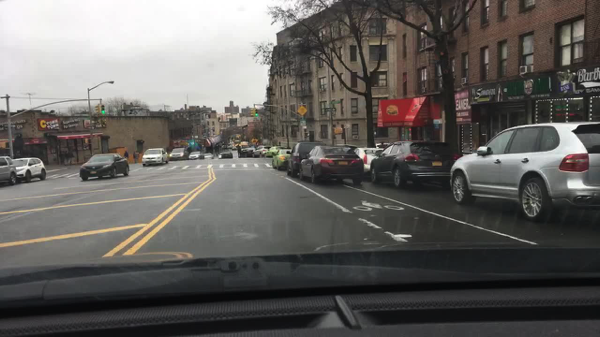car: (447, 120, 598, 223), (368, 139, 462, 189), (299, 145, 364, 185), (285, 140, 326, 178), (79, 152, 130, 182), (11, 157, 47, 184), (353, 147, 383, 175), (0, 155, 18, 185), (141, 148, 168, 167), (270, 148, 292, 169), (167, 148, 188, 161), (251, 145, 270, 159), (265, 146, 285, 158), (188, 150, 204, 162), (336, 144, 358, 151), (242, 147, 255, 158), (374, 142, 391, 150), (221, 152, 233, 160), (203, 153, 214, 159), (218, 152, 222, 160)
person: (67, 149, 76, 164), (58, 150, 65, 165), (63, 150, 69, 164), (133, 150, 139, 163), (123, 149, 129, 162), (236, 145, 242, 158), (14, 150, 21, 160), (378, 141, 385, 148)
traffic light: (94, 104, 100, 117), (333, 128, 343, 135), (101, 104, 106, 116), (249, 108, 254, 118), (303, 131, 310, 138), (5, 141, 11, 149), (254, 108, 258, 118)
traffic sign: (296, 105, 308, 115), (329, 100, 343, 105), (299, 118, 306, 127), (251, 136, 258, 144), (323, 108, 336, 112)
